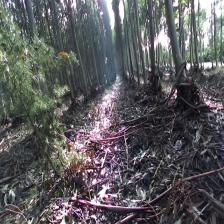trunk: (164, 2, 188, 82), (147, 4, 157, 80), (191, 4, 199, 68)
